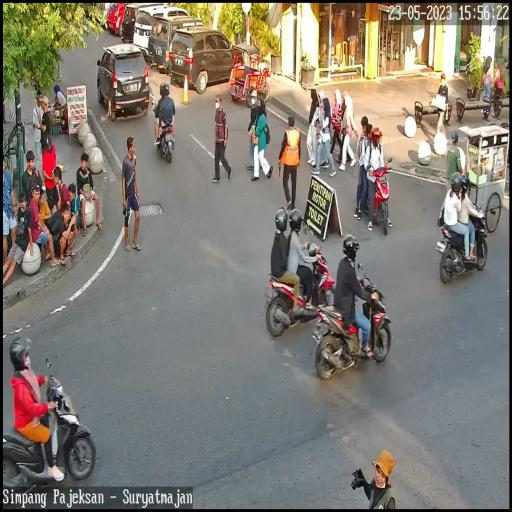mobil: (168, 28, 244, 95), (96, 43, 150, 122), (149, 16, 206, 76), (134, 6, 190, 52)
motor: (3, 366, 94, 484), (313, 273, 392, 379), (267, 231, 336, 340), (436, 201, 487, 286), (369, 158, 396, 236), (150, 95, 176, 166)
